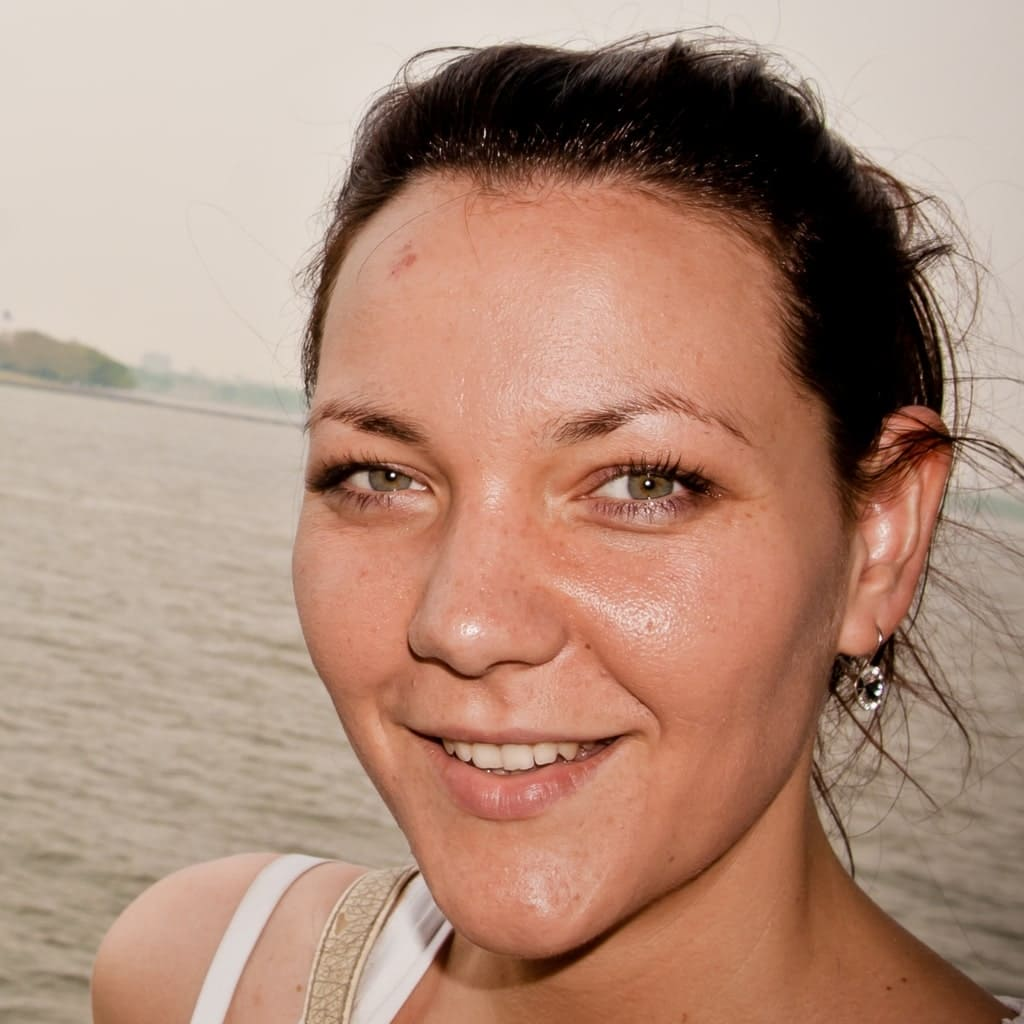without_mask: (298, 300, 806, 820)
